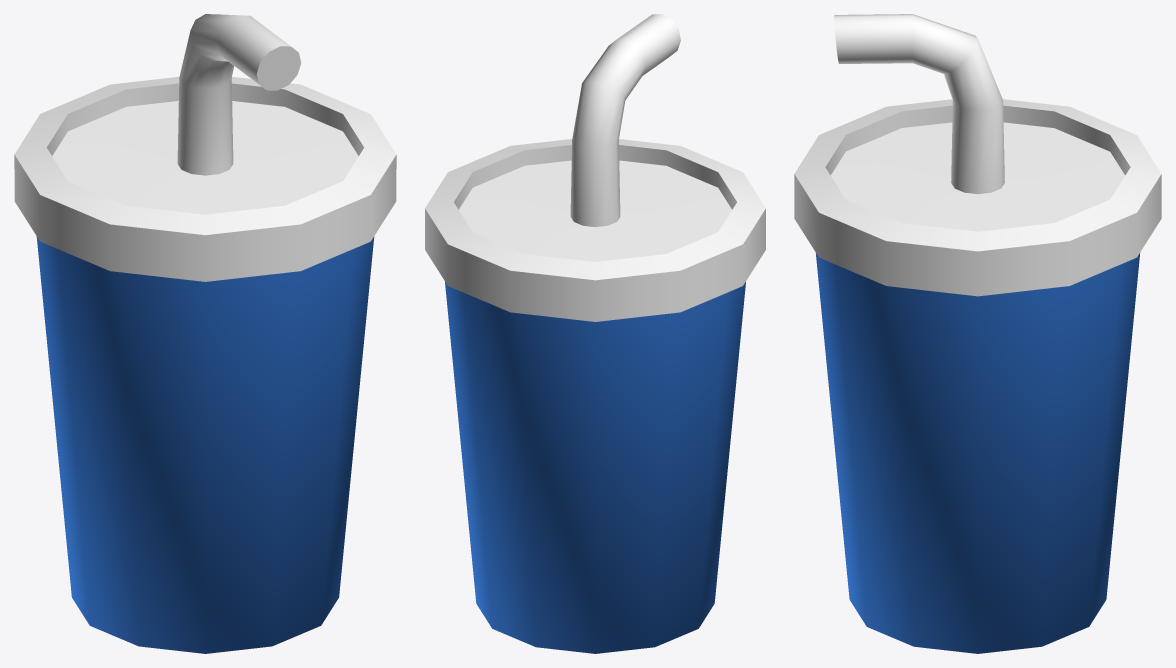
File: rl_drink_2.fbx
3 views of the same model, side by side, from view 1: azimuth 30°, elevation 25°; view 2: azimuth 150°, elevation 25°; view 3: azimuth 270°, elevation 25° (orthographic). The views are drawn at different scales.
Visible parts, largest first — view 1: cup, straw; view 2: cup, straw; view 3: cup, straw.
Part boxes in pixels (left/top/right/bottom): cup: left=36, top=236, right=374, bottom=653; straw: left=14, top=14, right=396, bottom=281; cup: left=445, top=282, right=745, bottom=653; straw: left=425, top=14, right=765, bottom=321; cup: left=816, top=253, right=1139, bottom=653; straw: left=794, top=14, right=1161, bottom=296.
Size of the model in its own units: 129 by 226 by 129.
